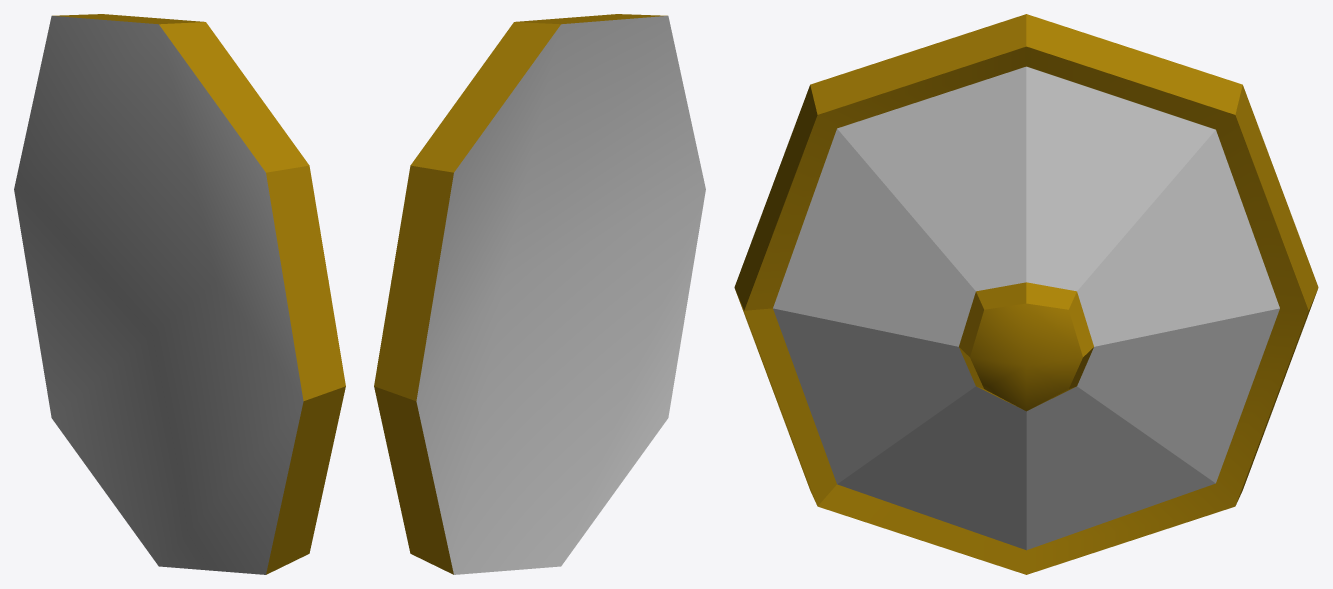
File: LP_Buckler.fbx
The picture shows the model from 3 angles, left to right: view 1: azimuth 30°, elevation 25°; view 2: azimuth 150°, elevation 25°; view 3: azimuth 270°, elevation 25°; orthographic projection.
Parts seen in each view (by area): view 1: scottsagaypiratefgt__1_:pCube5; view 2: scottsagaypiratefgt__1_:pCube5; view 3: scottsagaypiratefgt__1_:pCube5.
Part boxes in pixels (<box>): scottsagaypiratefgt__1_:pCube5: <box>14,14,345,574</box>; scottsagaypiratefgt__1_:pCube5: <box>374,14,705,574</box>; scottsagaypiratefgt__1_:pCube5: <box>734,14,1318,574</box>.
Size of the model in its own units: 0.1394 by 0.456 by 0.4413.
